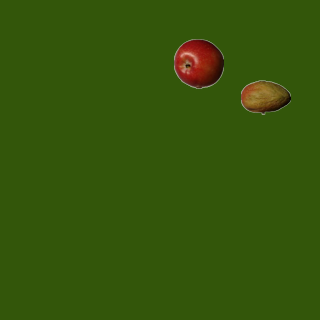Apple Braeburn: (173, 38, 223, 88)
Papaya: (240, 72, 290, 122)
